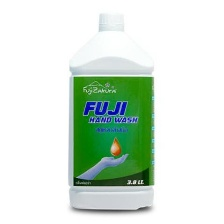cleaning_solution: (65, 9, 156, 213)
